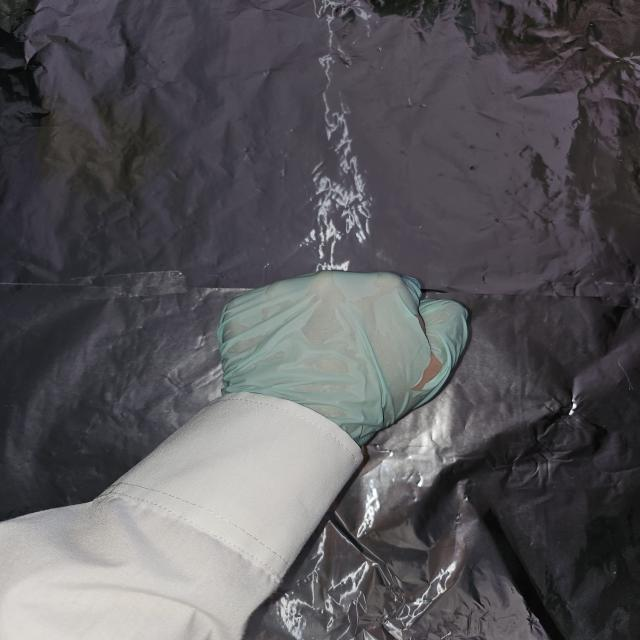gloves_damaged: (215, 269, 473, 436)
